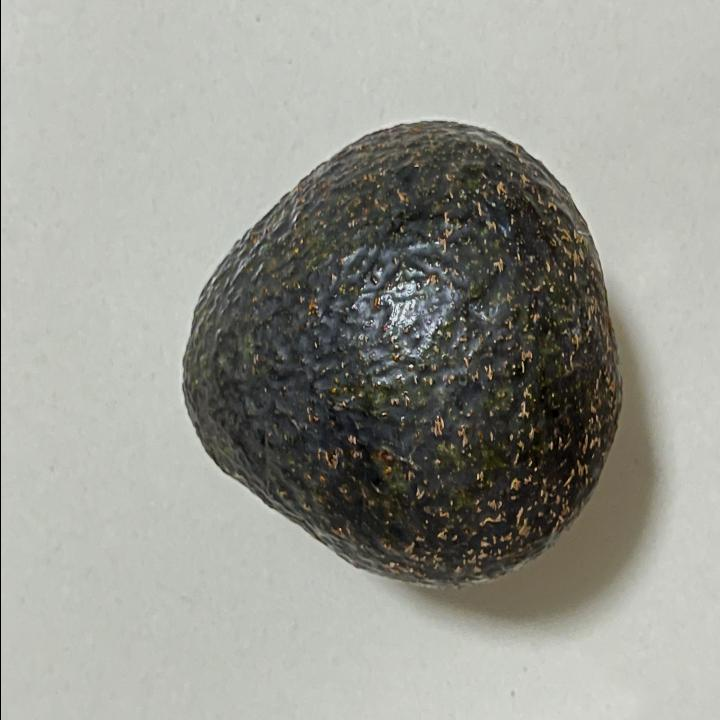Level1: (164, 108, 628, 596)
